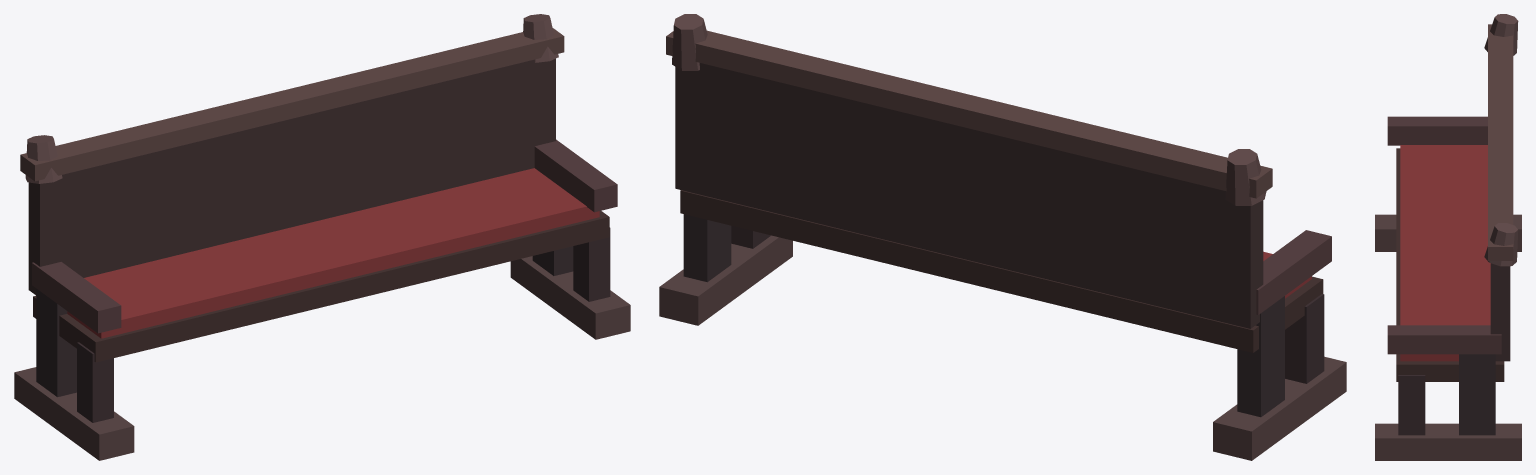
File: Pew.glb
The picture shows the model from 3 angles, left to right: view 1: azimuth 30°, elevation 25°; view 2: azimuth 150°, elevation 25°; view 3: azimuth 270°, elevation 25°; orthographic projection. The views are drawn at different scales.
Parts seen in each view (by area): view 1: Pew; view 2: Pew; view 3: Pew.
Boxes of the visible parts, x1,y1,x2,y2 form: Pew: (14, 14, 630, 460); Pew: (659, 14, 1346, 460); Pew: (1375, 14, 1521, 460).
Size of the model in its own units: 2.74 by 1.31 by 0.76.
